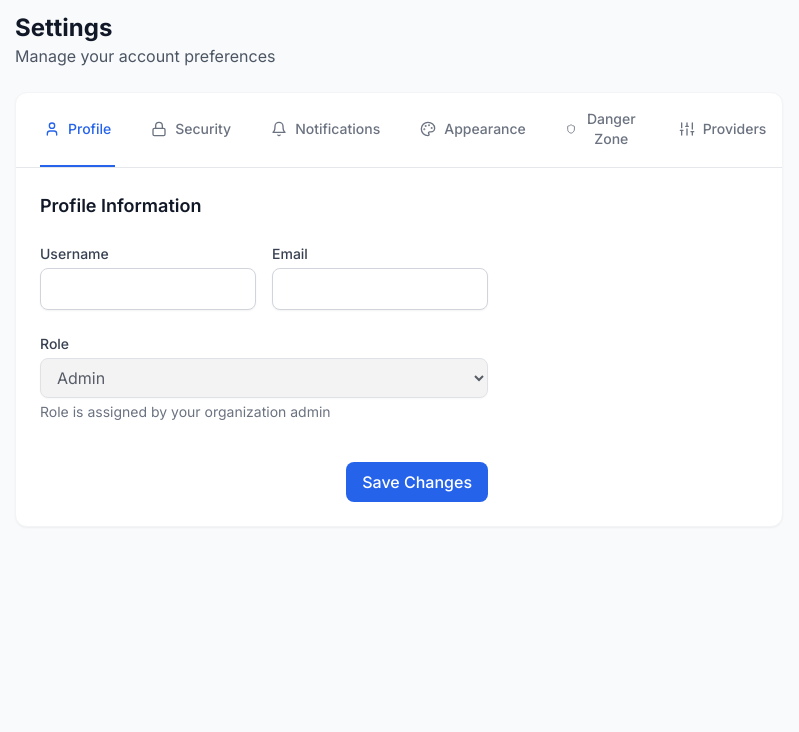
it: Settings page — enrichment providers (Phase 2.1) › renders empty state when no providers are configured
Click the tab "Providers": (722, 130) top-left (675, 93), bottom-right (770, 167)
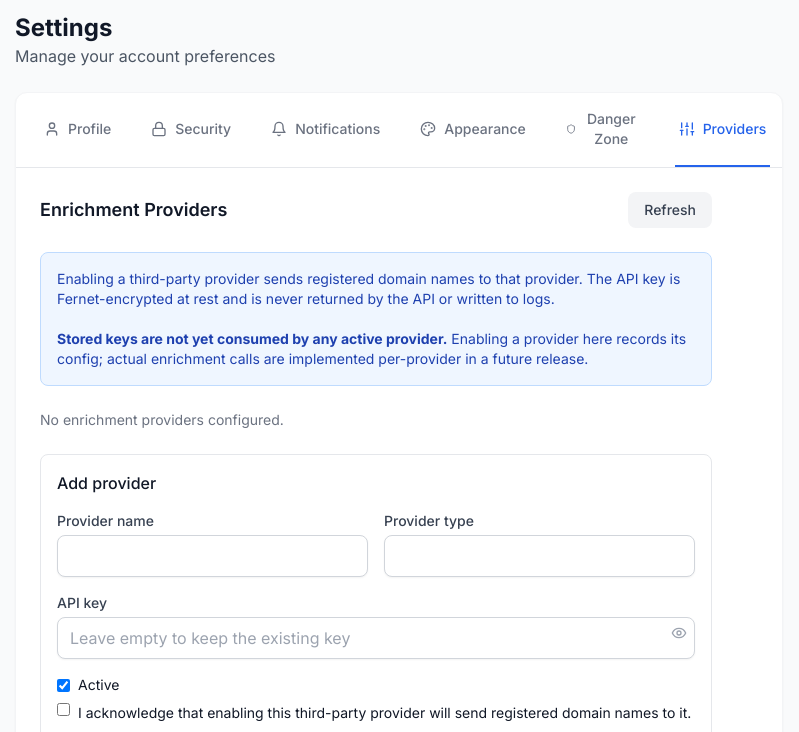
Expected: the text "No enrichment providers configured." is shown, top-left (40, 411), bottom-right (284, 428)
